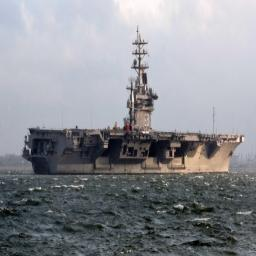Portanaves: (22, 23, 248, 179)
